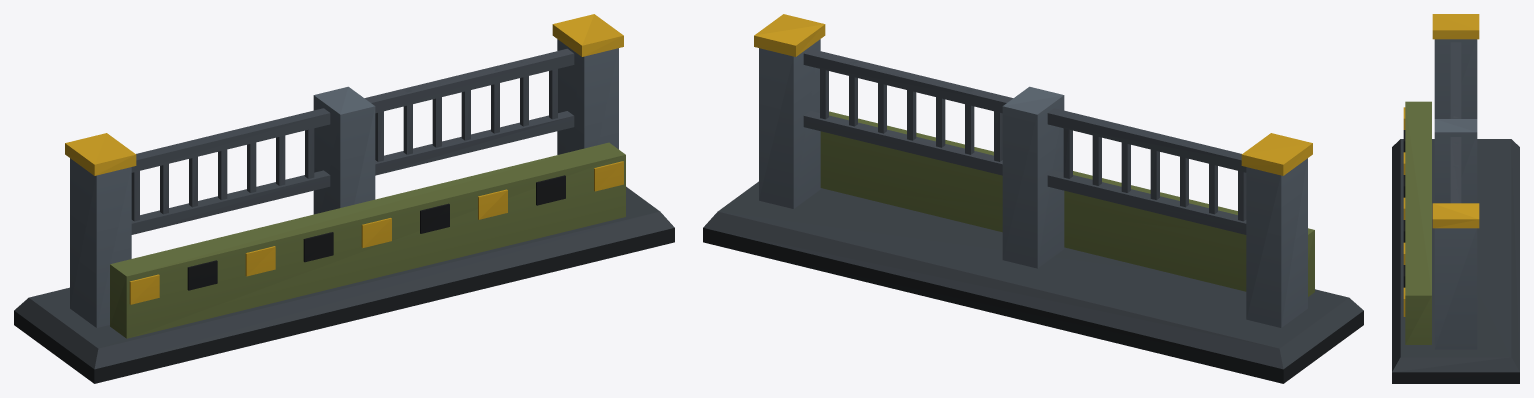
Rendered from outpost-gate-fence.glb.
3 views of the same model, side by side, from view 1: azimuth 30°, elevation 25°; view 2: azimuth 150°, elevation 25°; view 3: azimuth 270°, elevation 25° (orthographic). The views are drawn at different scales.
Bounding box in the file's own units: 5 × 1.6 × 1.2.
